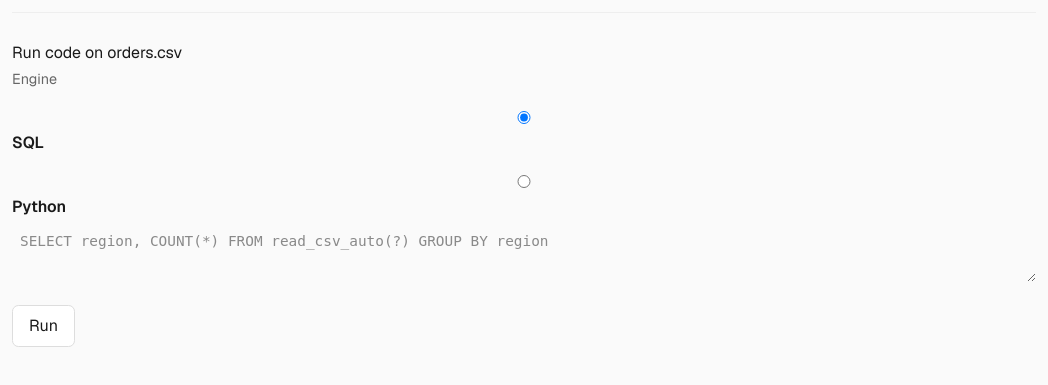
Test case: the standalone run-code panel (W2X-007) › a refusal answers with a sentence, not a silent failure
Type "SELECT * FROM nope" into the text box named "sql to run" at (524, 252), box left=12, top=223, right=1036, bottom=282
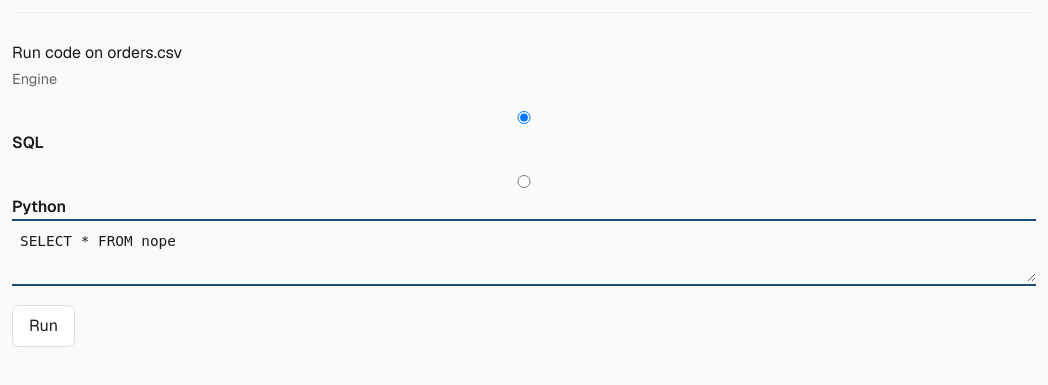
Click the button "Run" at (44, 326), box left=12, top=305, right=75, bottom=347
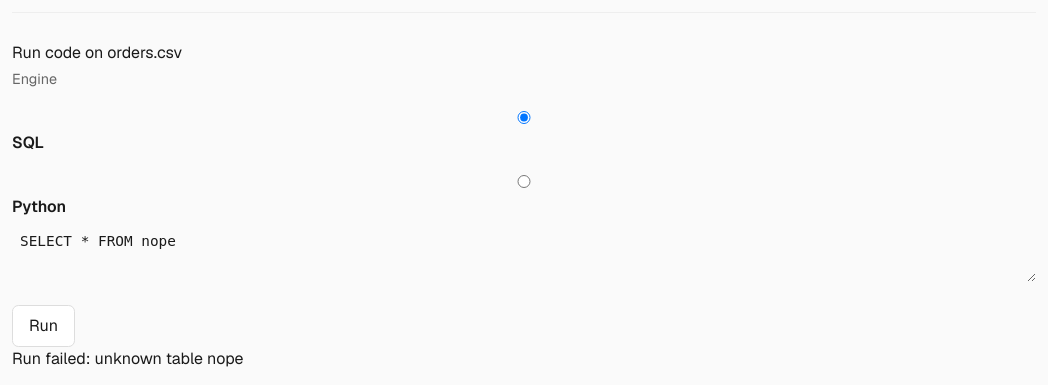
Now the text "Run failed: unknown table nope" is shown, box left=12, top=348, right=244, bottom=369
